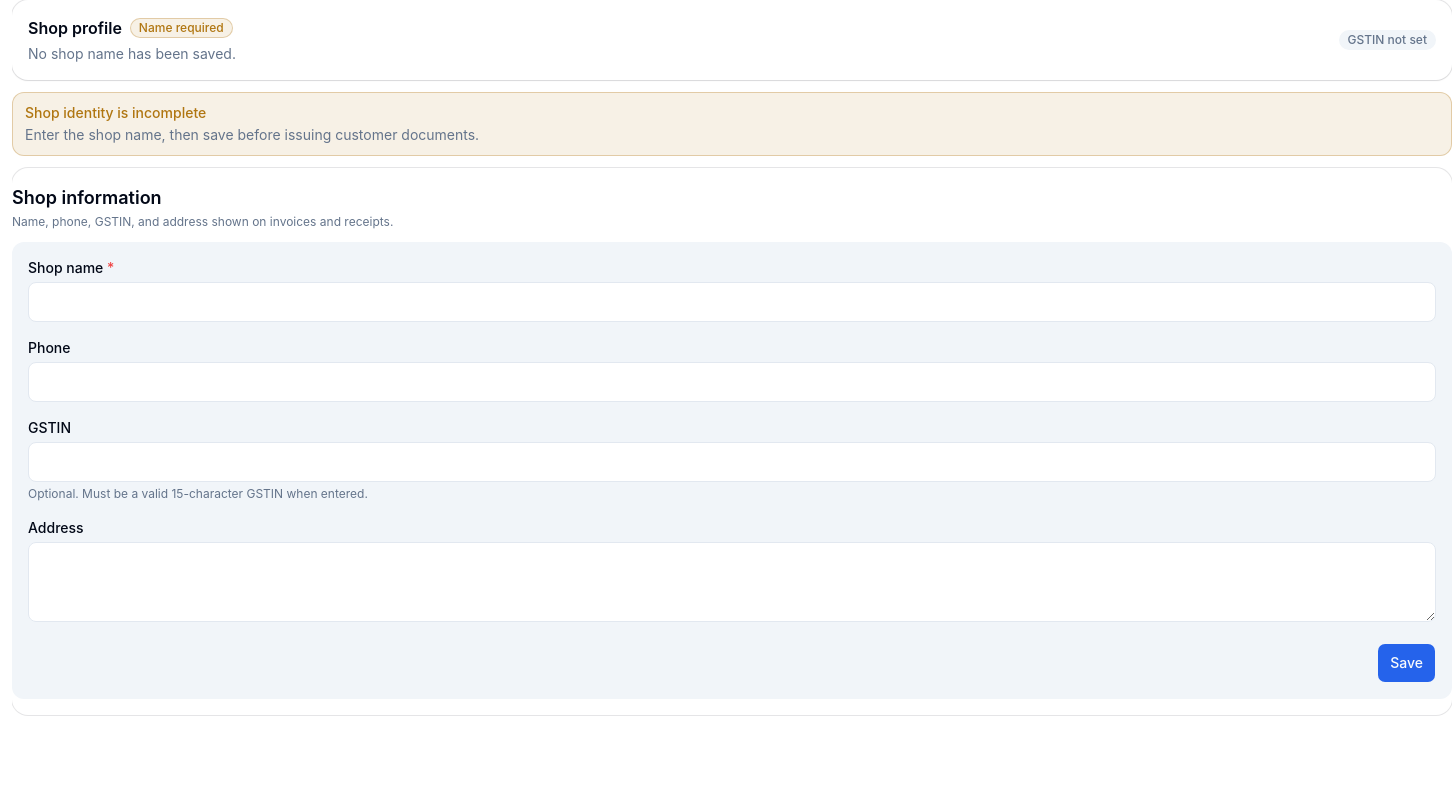
Scenario: Shop settings state › rejects an invalid GSTIN before saving
an invalid GSTIN is entered and Save is pressed.
Type "invalid" into the field labelled "GSTIN" at (732,462), box [28,442,1436,482]
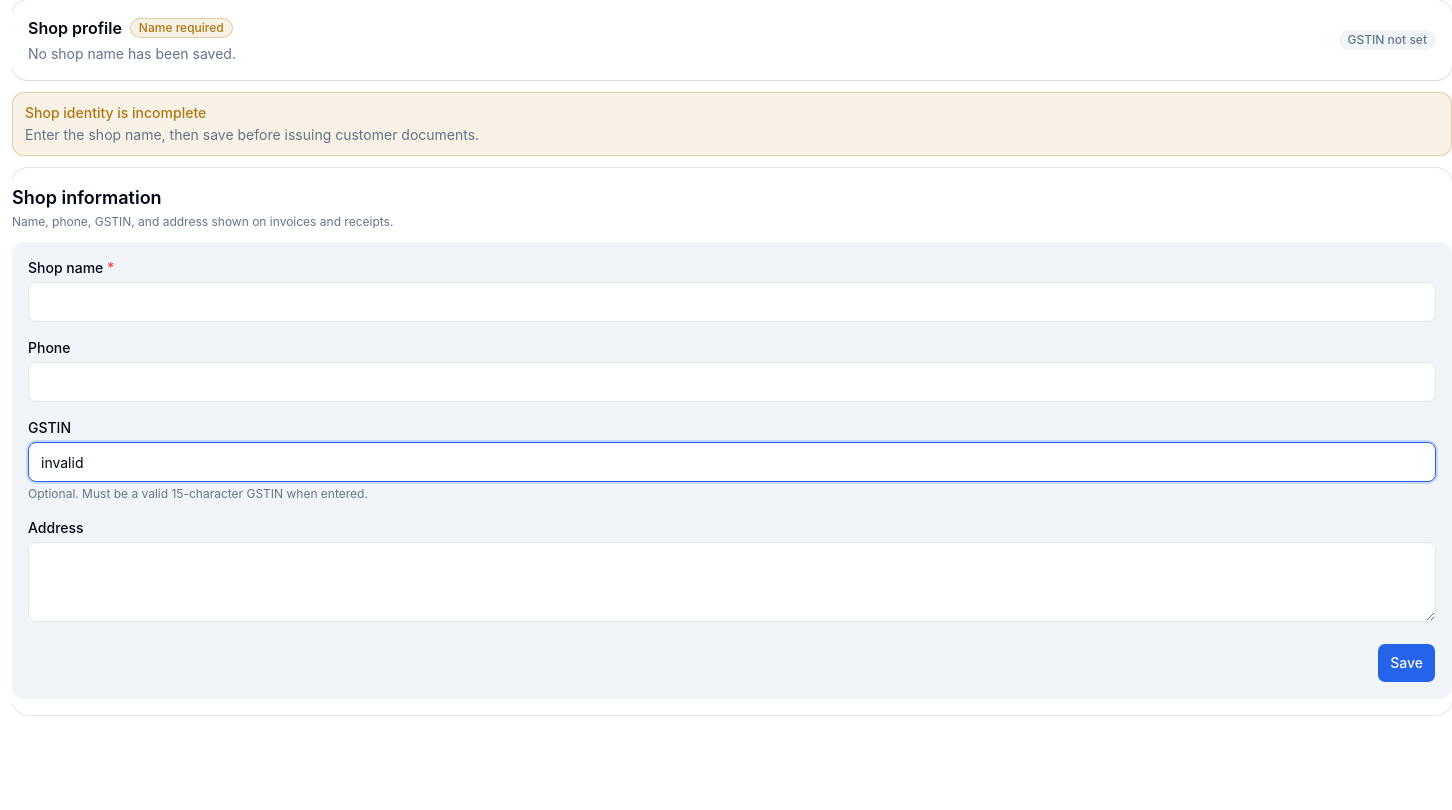
Click the button "Save" at (1407,663), box [1377,643,1436,683]
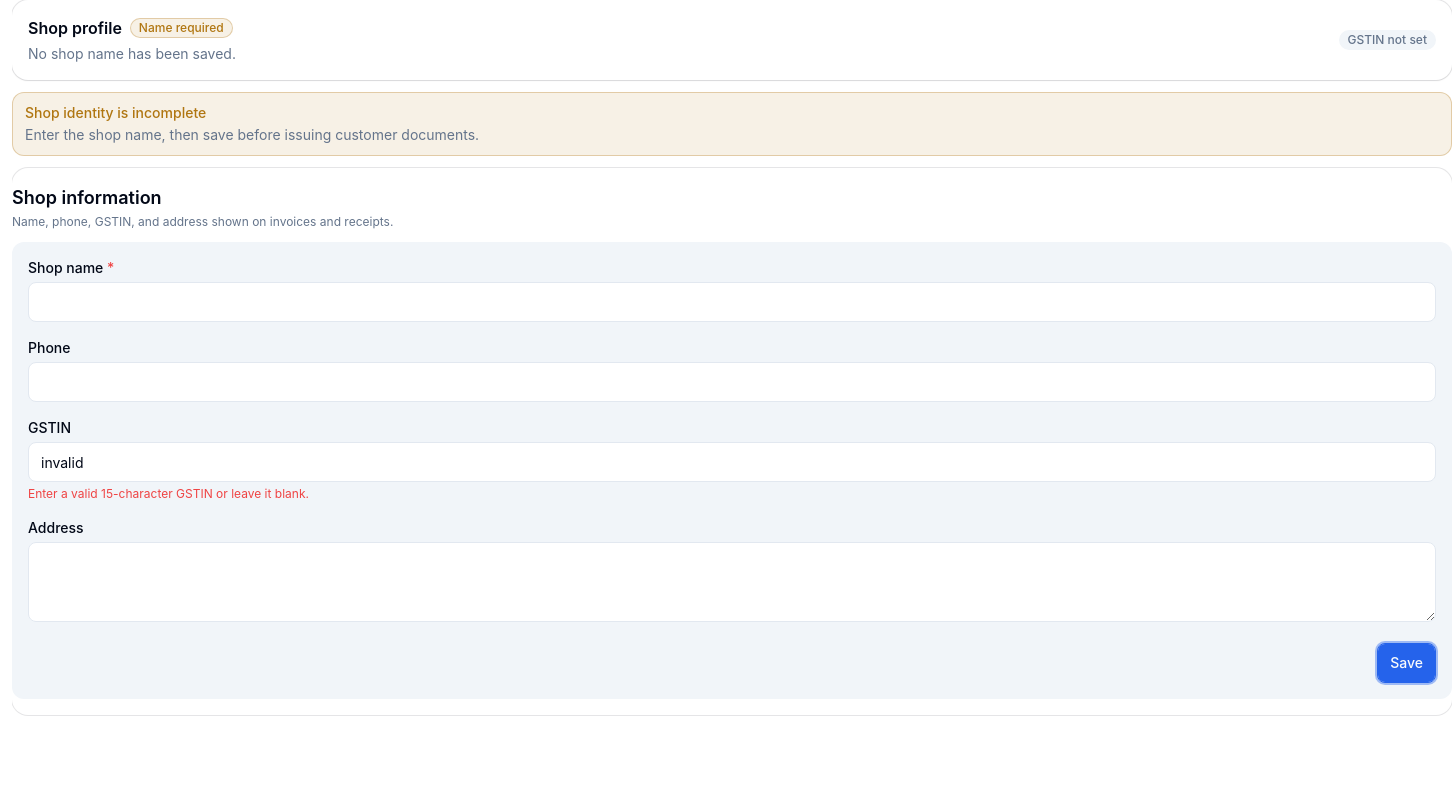
Expected: the text "Enter a valid 15-character GSTIN or leave it blank." is shown, [28,486,309,501]
